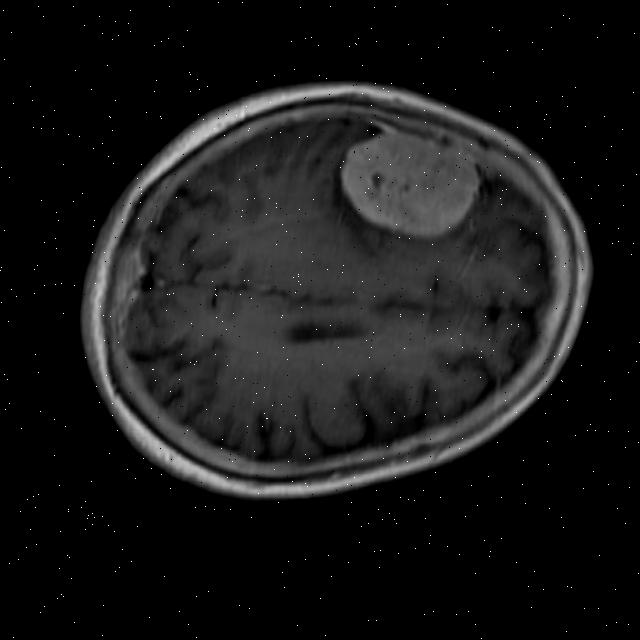Meningioma: (331, 106, 486, 246)
